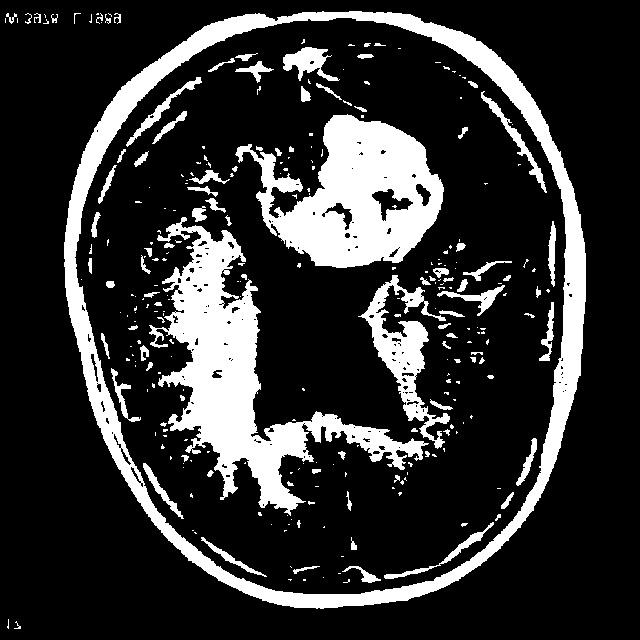Brain-Tumor: (266, 106, 459, 281)
